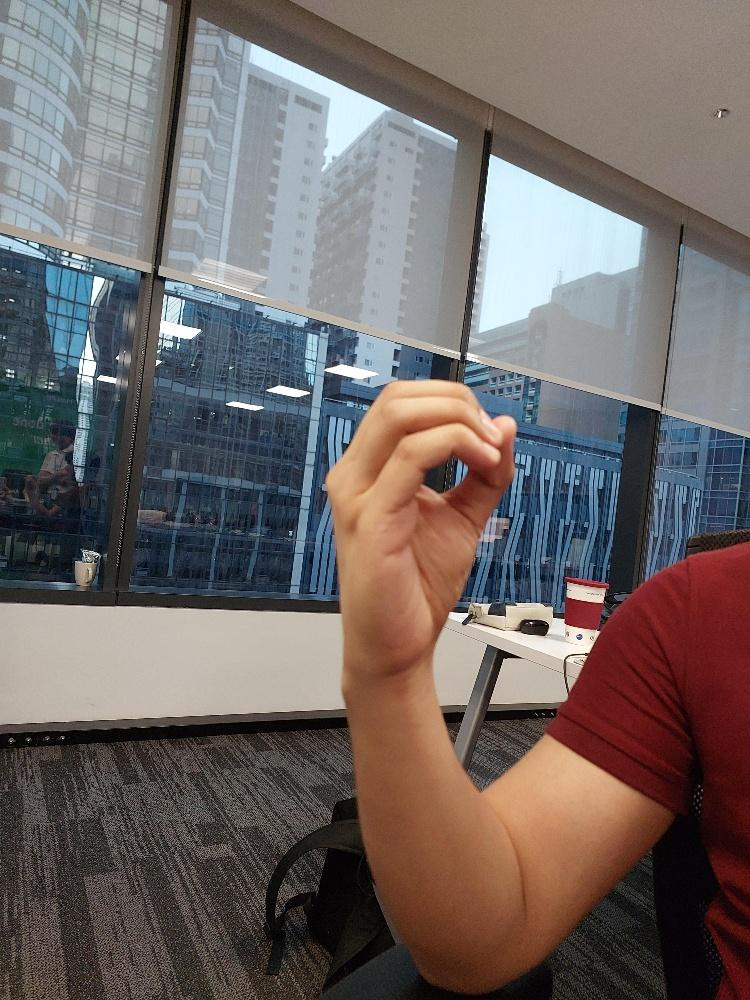o: (321, 375, 518, 679)
